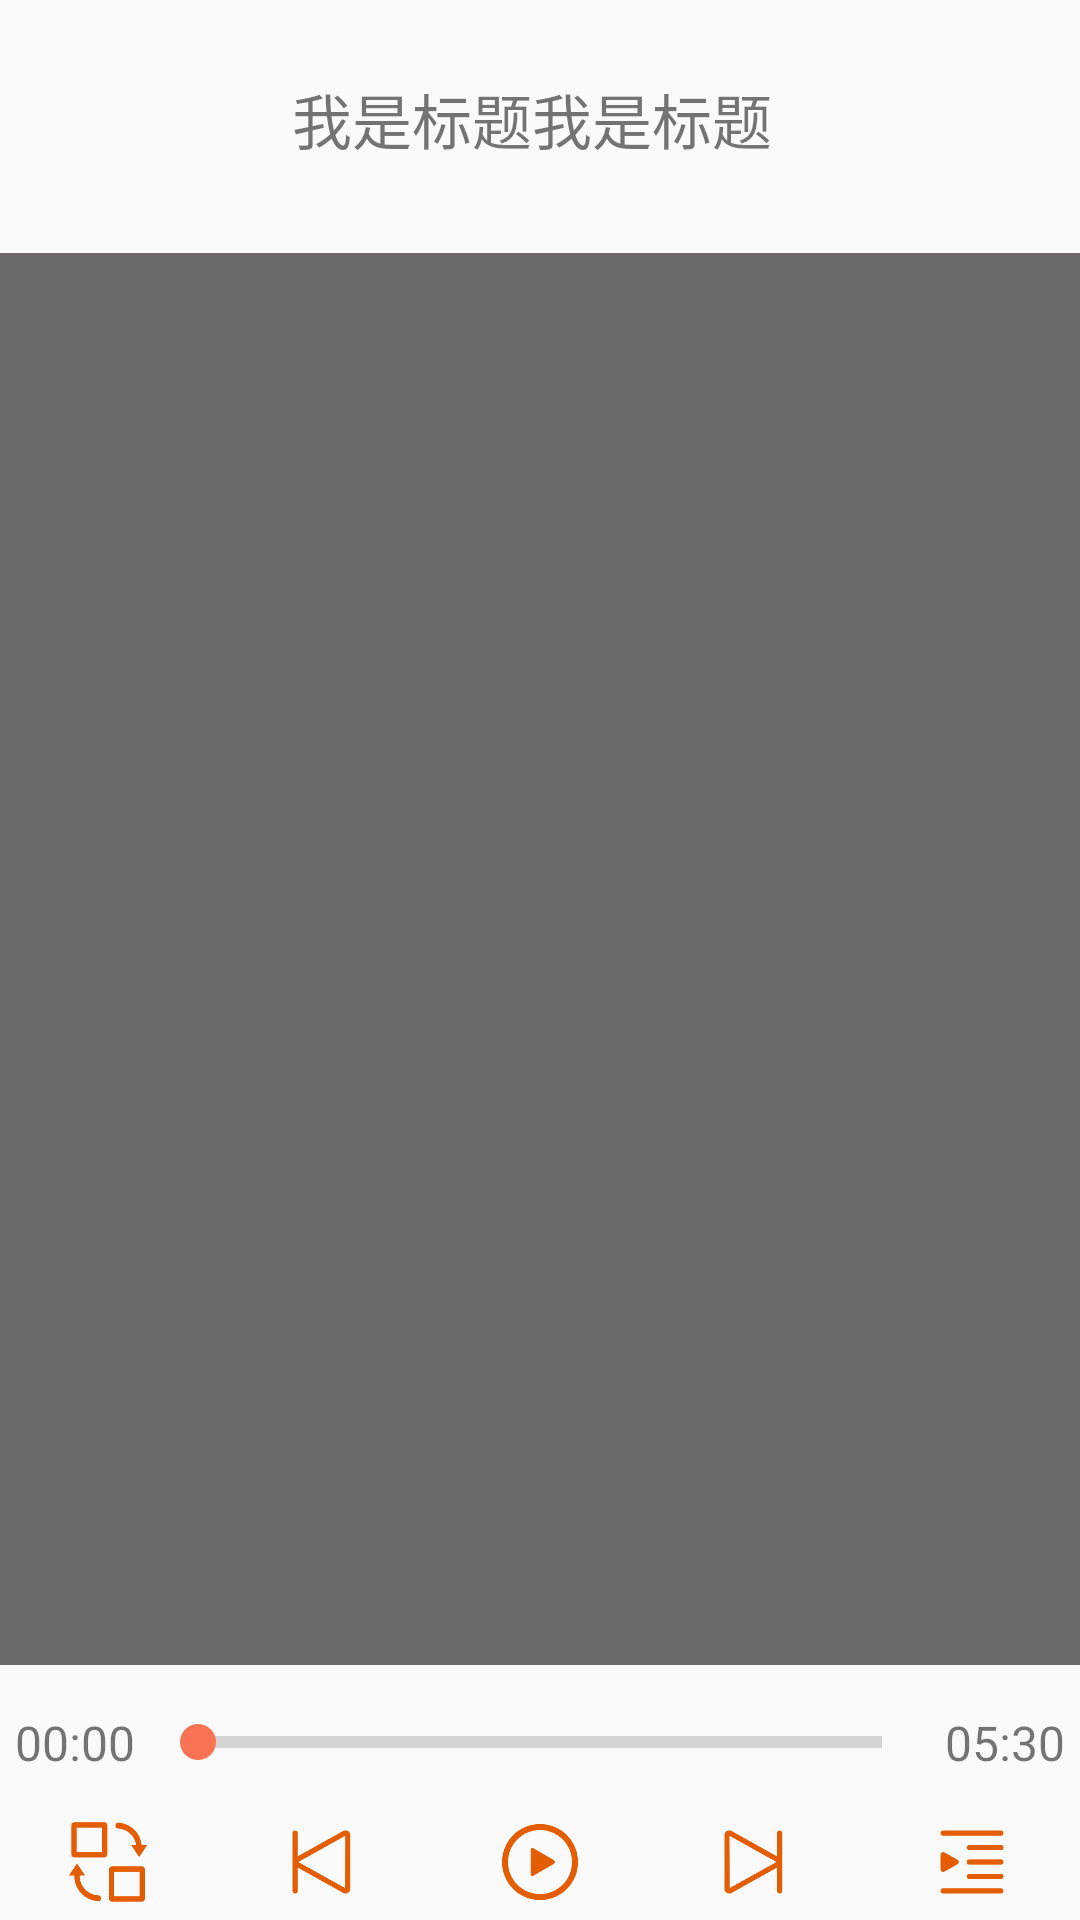

Icon bounding boxes for this 1080x1920 phone screenshot, format (x1, y1, x2, y2):
play list: (940, 1830, 1004, 1894)
play mode: (69, 1822, 147, 1902)
play next: (724, 1830, 783, 1894)
play now: (502, 1824, 578, 1900)
play pre: (292, 1830, 351, 1894)
